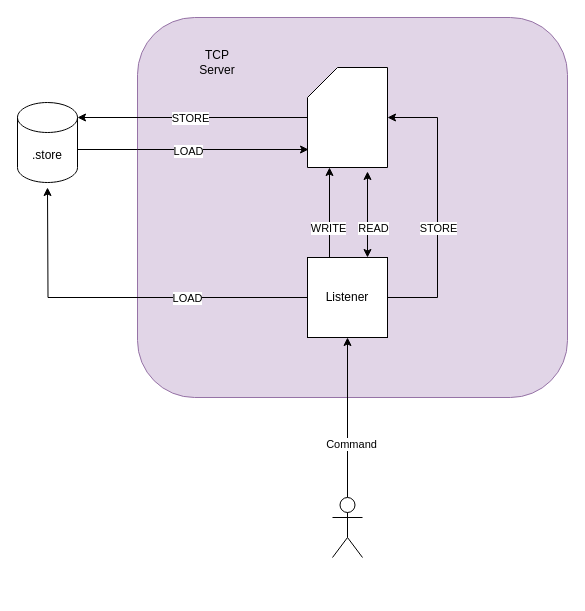
Some shapes in this 585 by 611 pixel diagram are drawn without their labels. The box of each missing label's shape, as (x1, y1, x2, y2) in pixels:
Client: (332, 496, 362, 558)
inmem: (306, 66, 388, 168)
